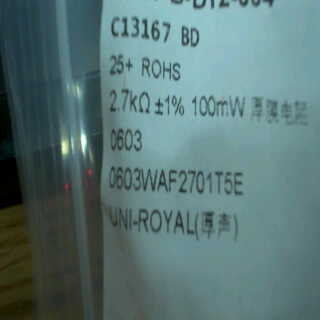2.7kR: (107, 82, 156, 119)
